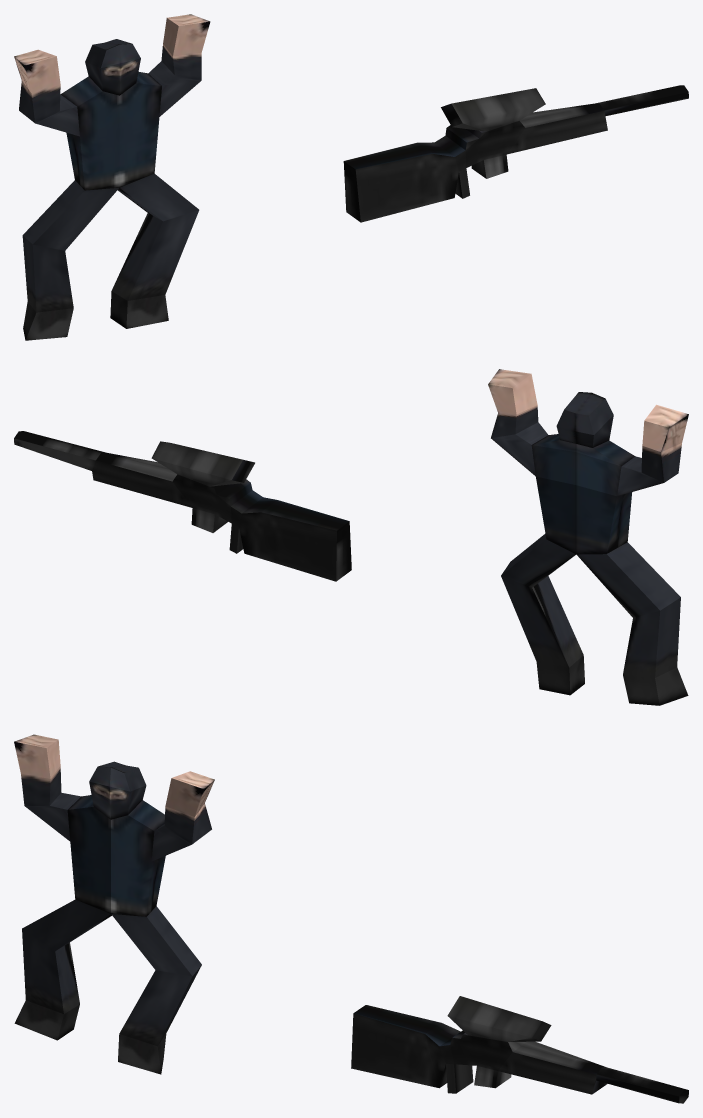
The model's file is GarbageCopSniper_2items.fbx.
The picture shows the model from 3 angles, top to bottom: view 1: azimuth 30°, elevation 25°; view 2: azimuth 150°, elevation 25°; view 3: azimuth 330°, elevation 25°; orthographic projection. The views are drawn at different scales.
Visible parts, largest first — view 1: SNIPER1, SNIPER_RIFLE1; view 2: SNIPER1, SNIPER_RIFLE1; view 3: SNIPER1, SNIPER_RIFLE1.
Boxes of the visible parts, box(x1,y1,x2,y2) form: SNIPER1: box(14, 14, 210, 340); SNIPER_RIFLE1: box(343, 85, 688, 222); SNIPER1: box(488, 369, 688, 705); SNIPER_RIFLE1: box(14, 431, 351, 581); SNIPER1: box(14, 734, 214, 1074); SNIPER_RIFLE1: box(351, 996, 688, 1103).
Size of what is drawn, in the model's own units: 38.26 by 16.26 by 2.58.
